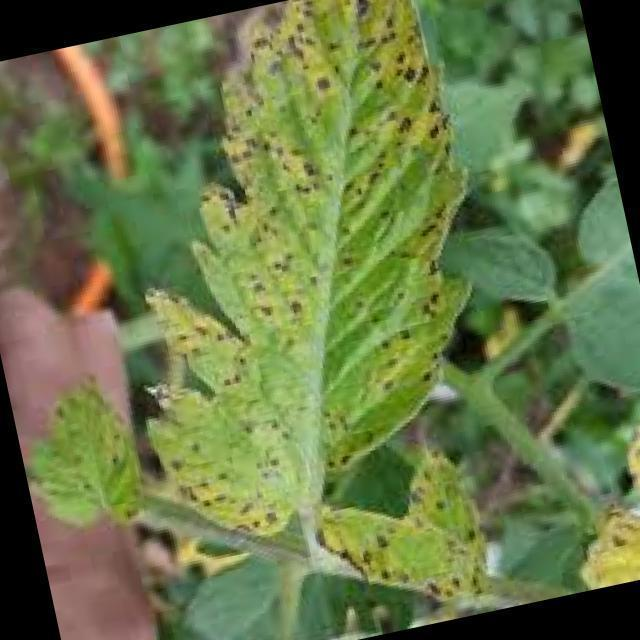Bacterial Spot: (85, 0, 519, 527), (311, 454, 508, 630), (13, 367, 158, 550)
